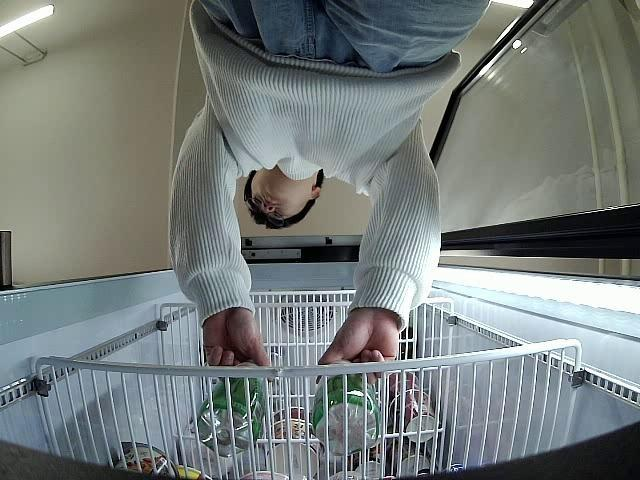18_trevi: (311, 358, 383, 457), (194, 362, 268, 458)
